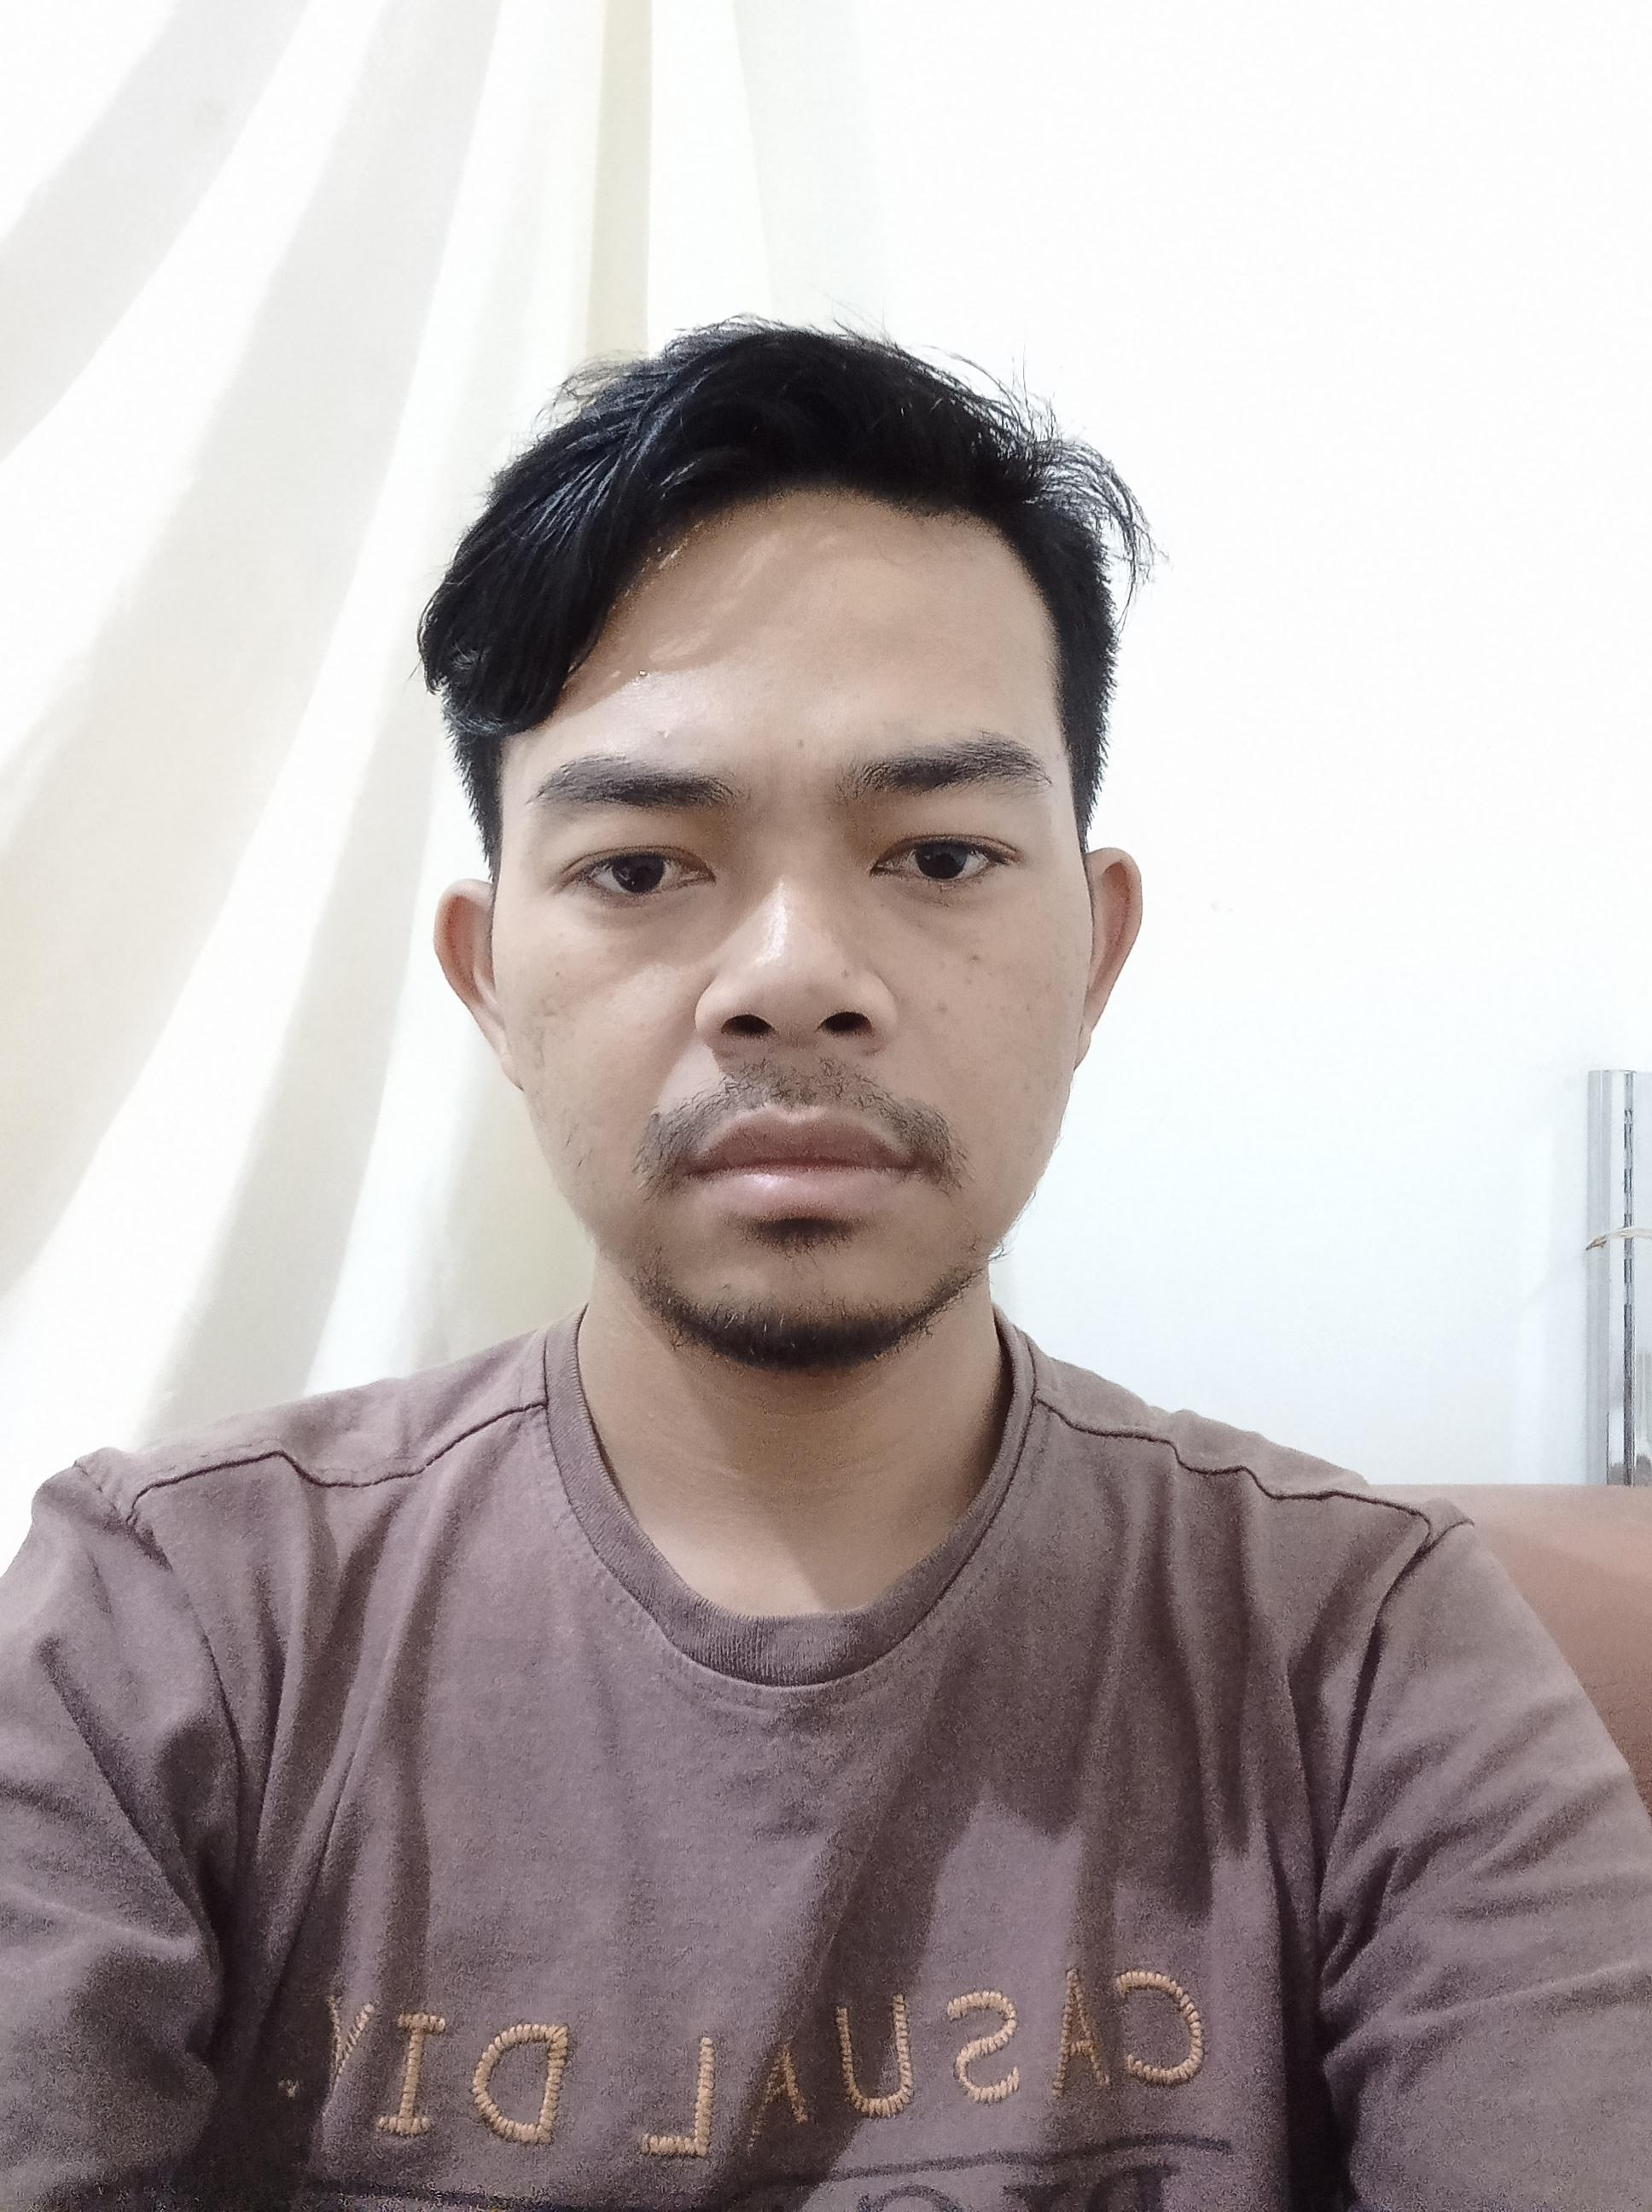Acne: (519, 994, 559, 1076), (649, 725, 677, 744), (930, 998, 953, 1018), (958, 973, 980, 992), (835, 963, 852, 985), (967, 947, 984, 966), (1019, 1077, 1034, 1096), (1022, 999, 1034, 1022), (795, 734, 807, 753)
